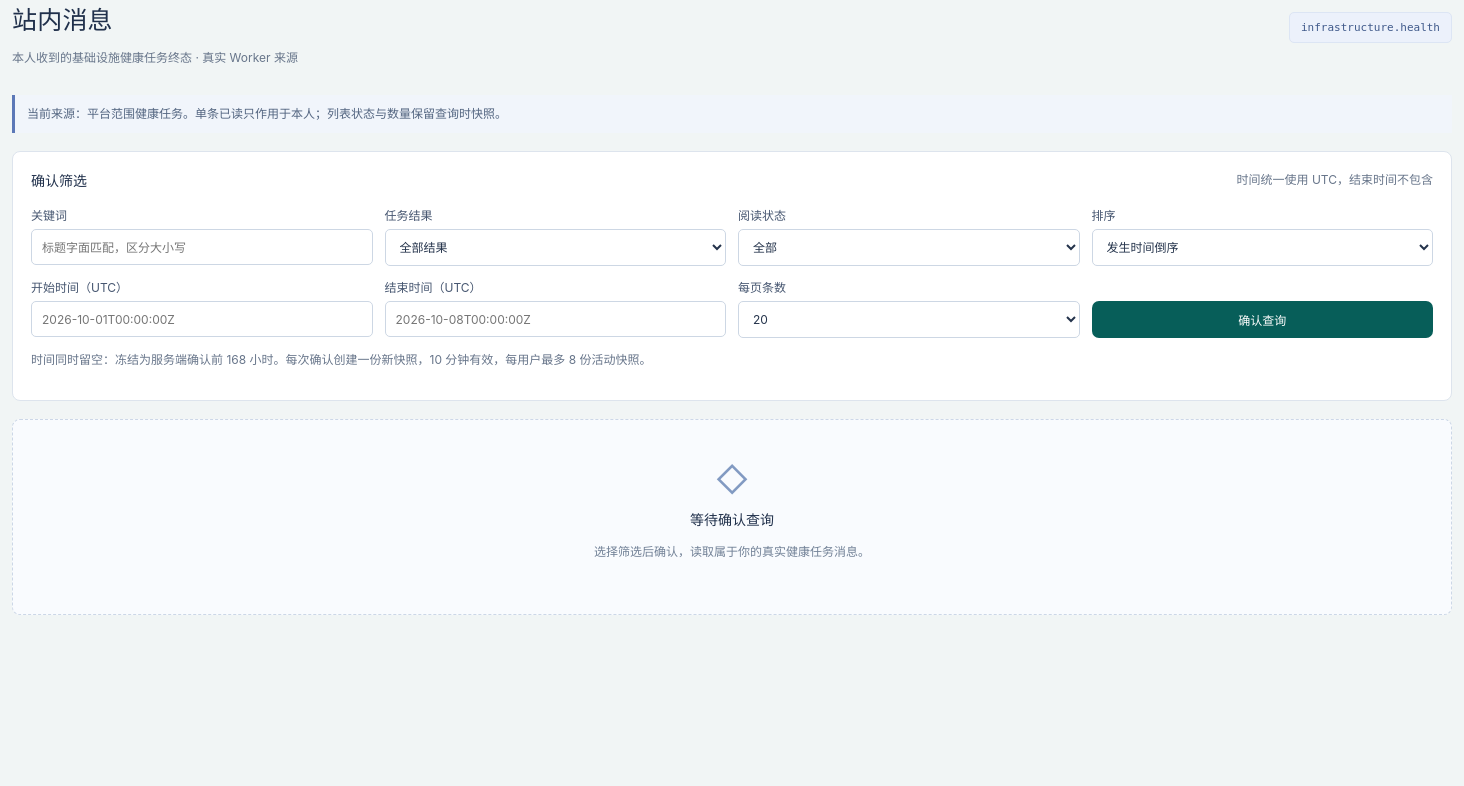
Test: requires explicit confirmation even in StrictMode, shows true query counts and UTC
The width and height of the screenshot is (1464, 786).
Check: the dropdown labelled "阅读状态" shows "全部", box top-left (738, 229), bottom-right (1080, 266)
Click the button "确认查询" at (1262, 320), box top-left (1092, 301), bottom-right (1433, 338)
(page scrolled)
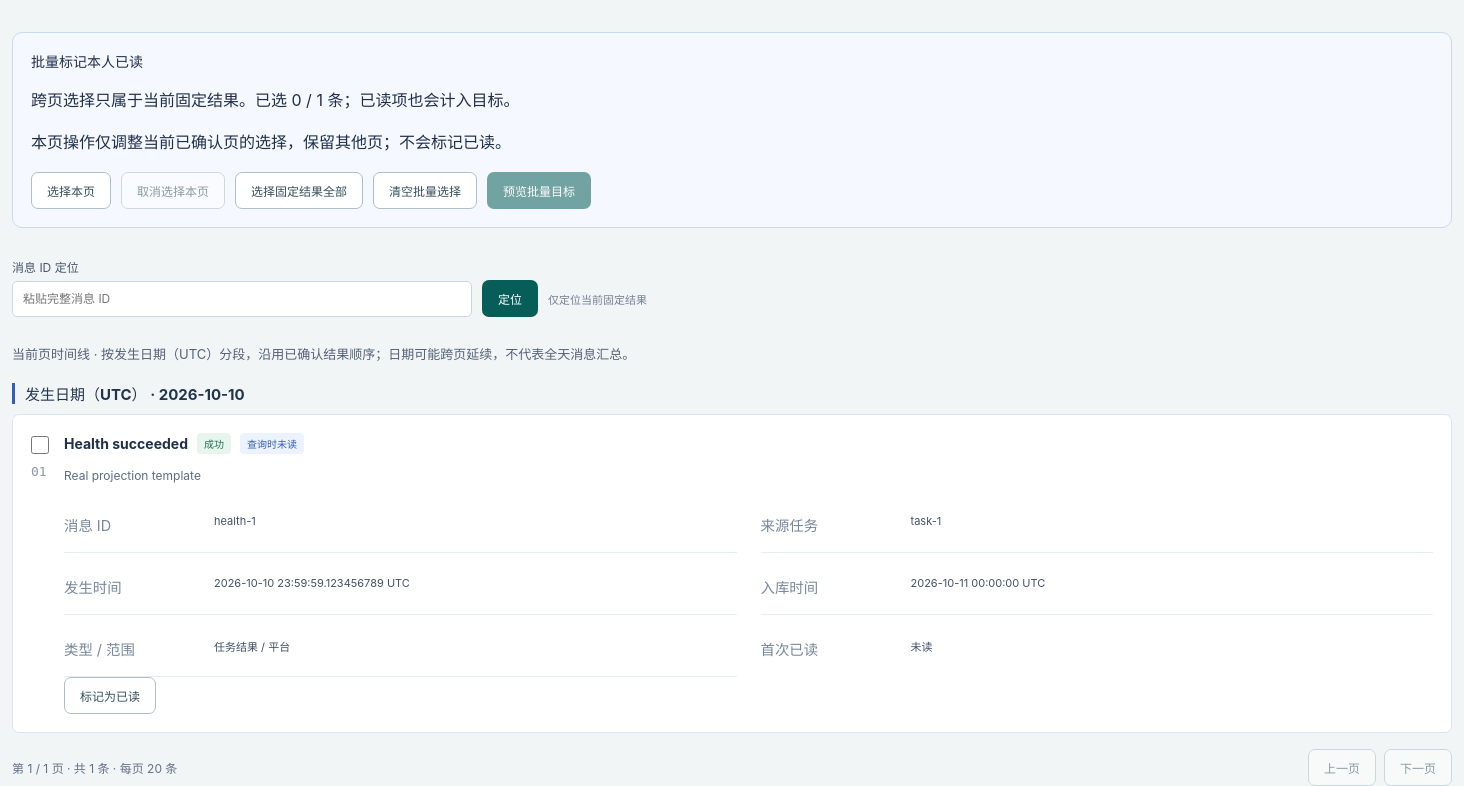
Check: the list named "站内消息列表" is shown, box top-left (12, 383), bottom-right (1452, 733)
Check: the text "2026-10-10 23:59:59.123456789 UTC" is shown, box top-left (214, 576), bottom-right (410, 590)
Check: the button "标记为已读" is enabled, box top-left (64, 677), bottom-right (156, 714)
